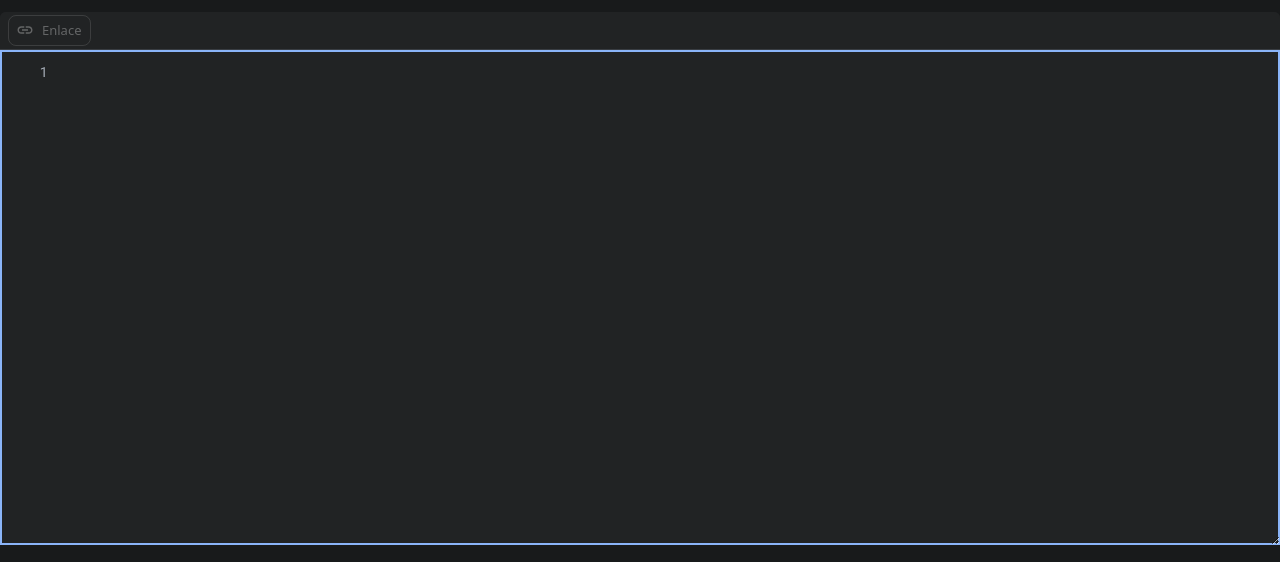
Test: DailyEditor · inserción de referencia con @ › reemplaza @consulta al final del documento por el átomo y cierra el picker
This screenshot has width=1280, height=562.
Type keys "@Referencia"
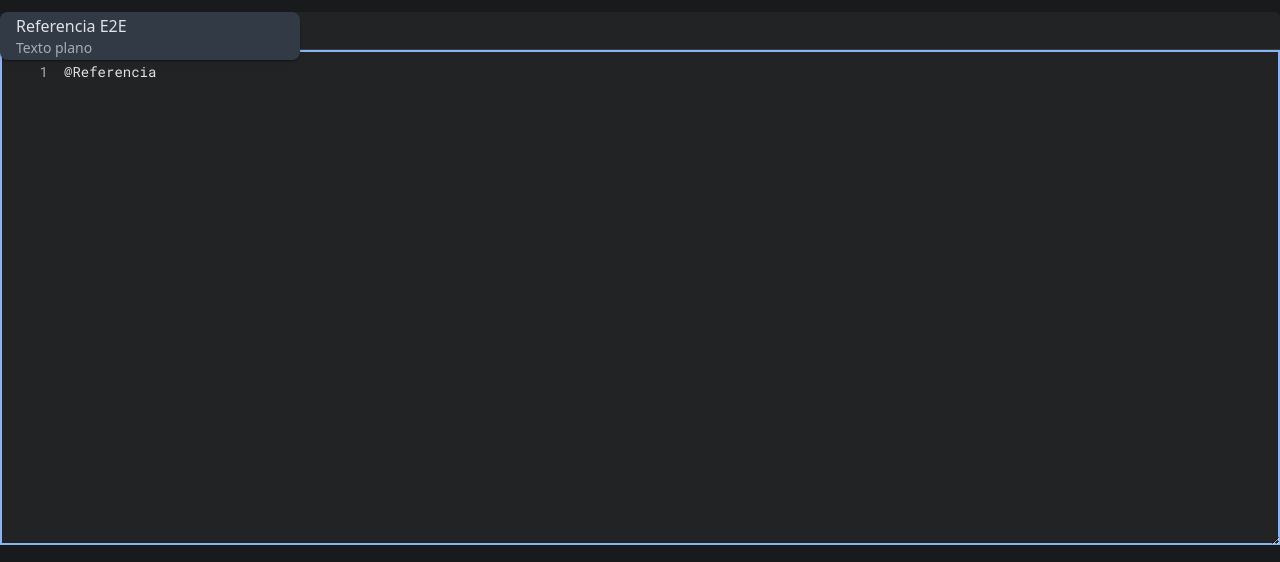
Click the button "Referencia E2E Texto plano" at coordinates (71, 26), box [0, 12, 300, 60]
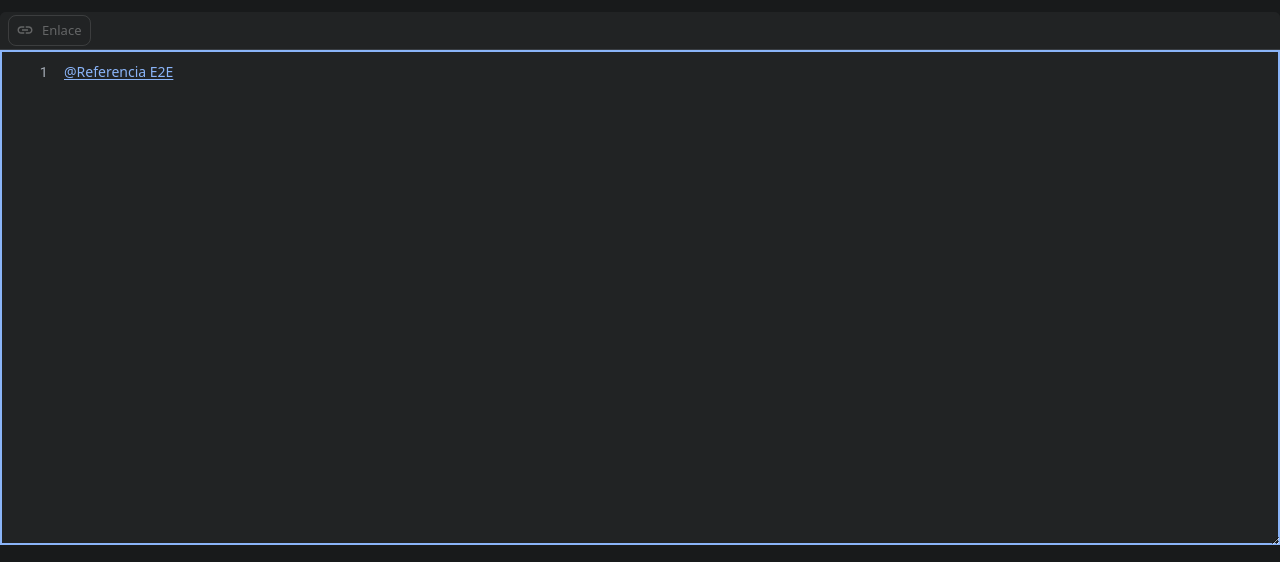
Check: the text "@Referencia E2E" is shown, box [64, 62, 173, 82]
